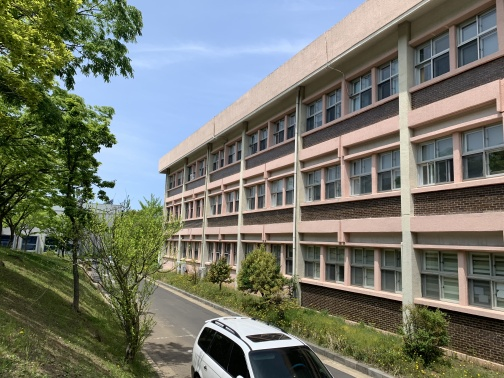College Of Education: (157, 34, 502, 340)
